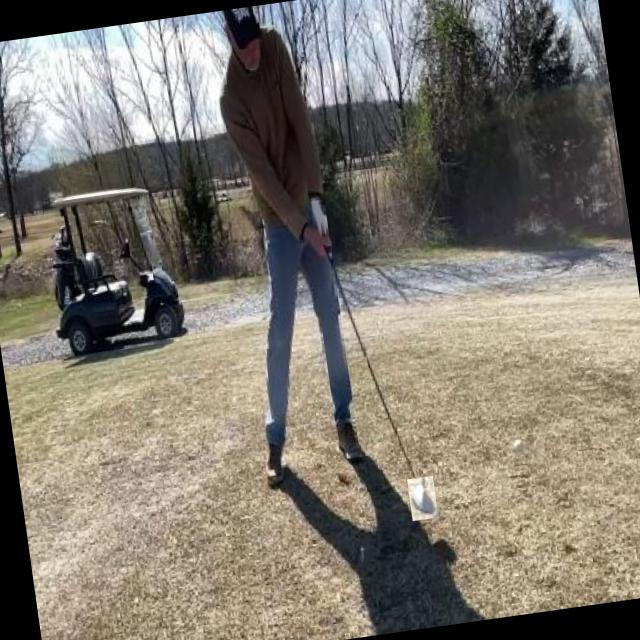club head: (407, 476, 439, 521)
